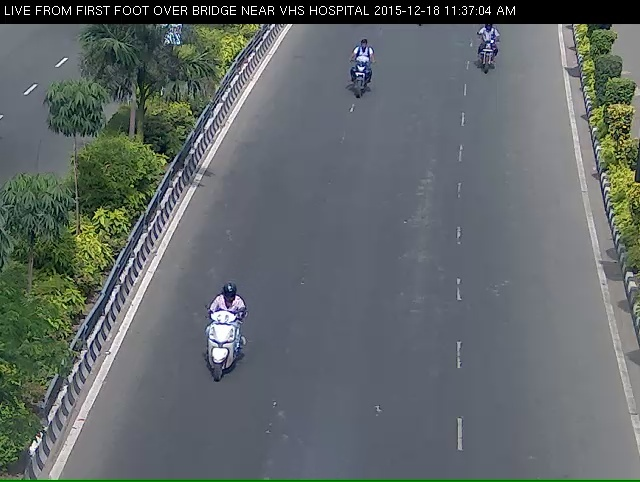Person: (178, 320, 236, 418), (335, 50, 378, 114), (471, 29, 506, 83)
